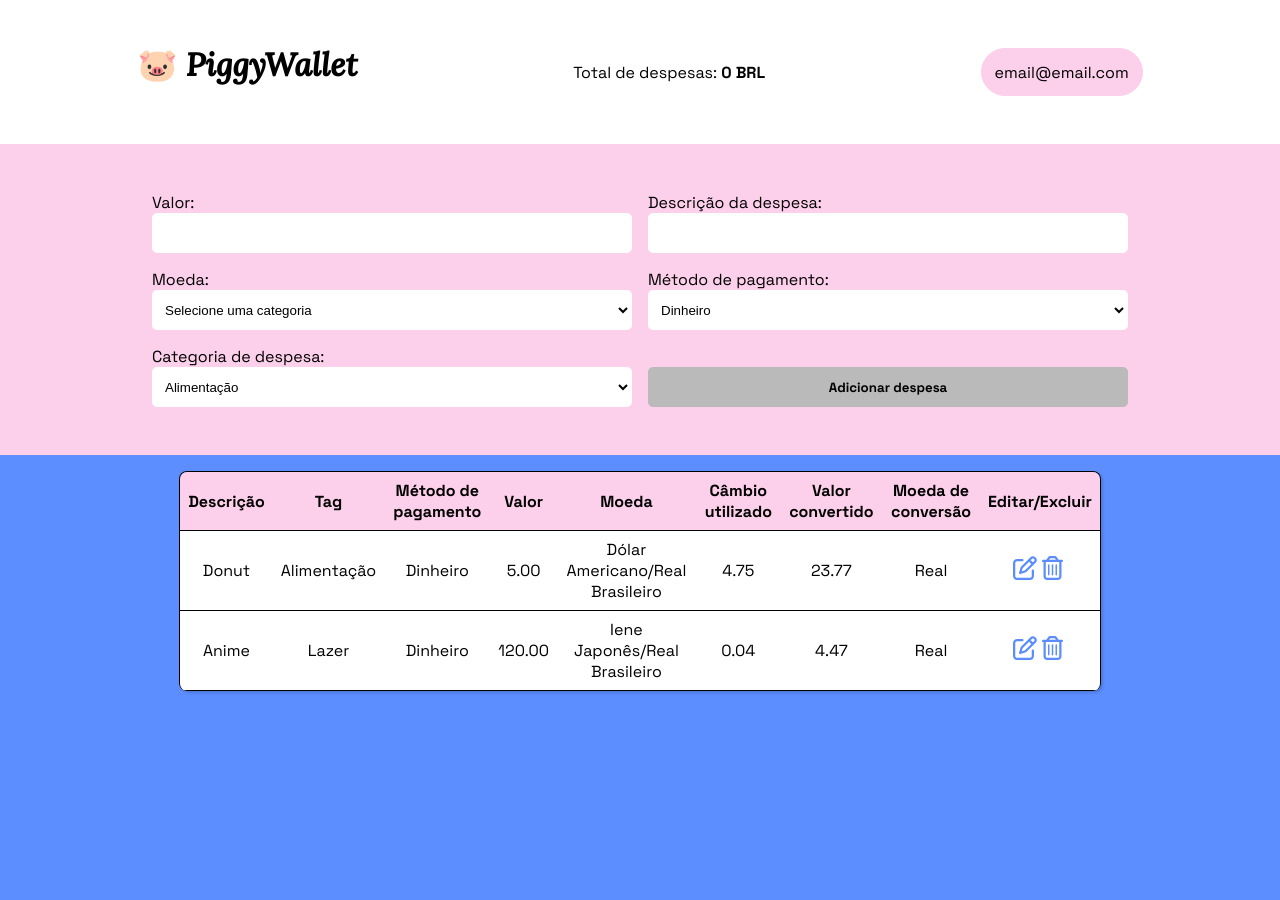
Test: testa do componente EditExpenseForm › elementos aparecem na tela
Expected: the text "Donut" is shown, 180,531 -> 273,611
Expected: the text "Anime" is shown, 180,611 -> 273,691
Step 1. Click the 1st button with test id "edit-btn" → click(1027, 570), box 1012,554 -> 1041,586
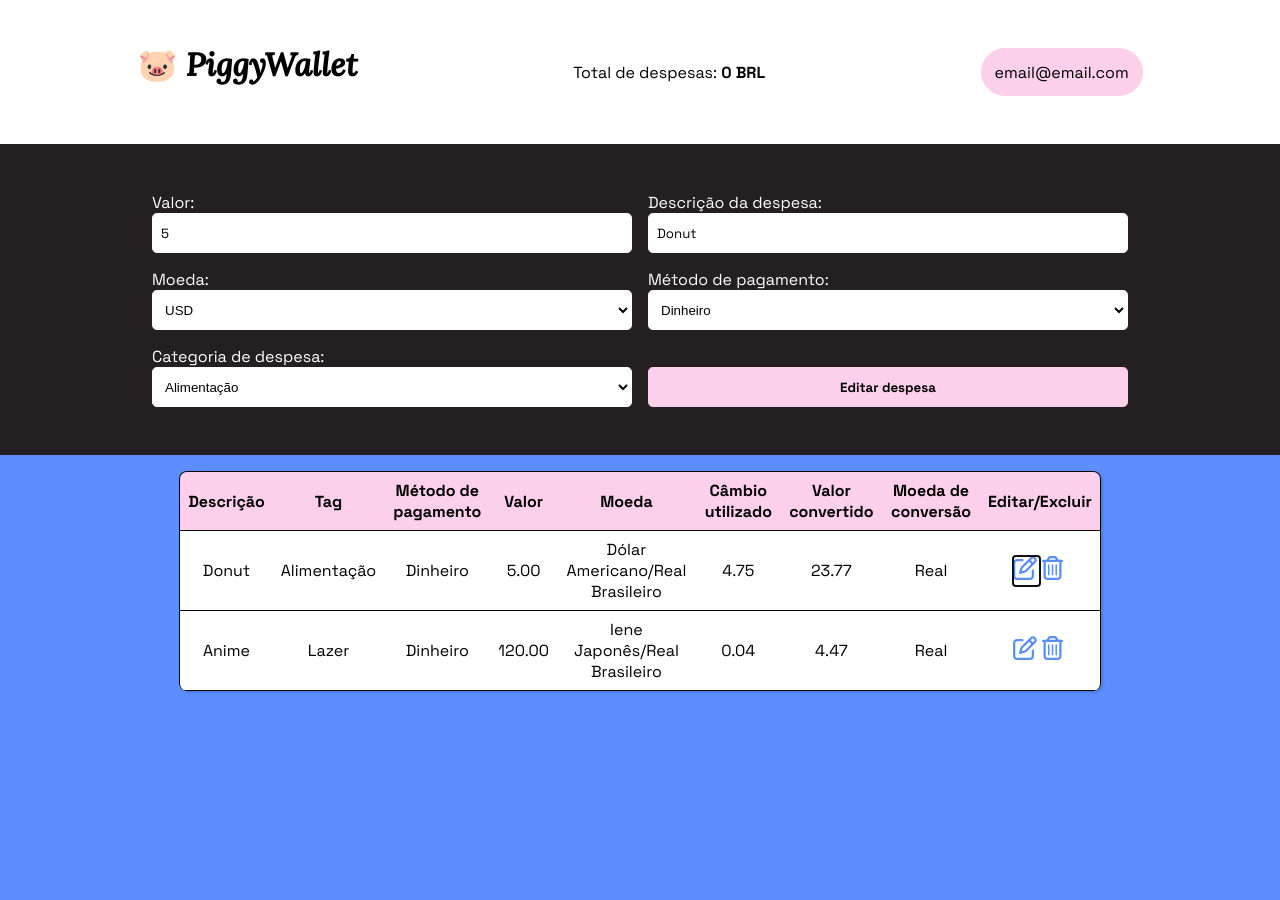
Expected: the button "Editar despesa" is shown, 648,367 -> 1128,407
